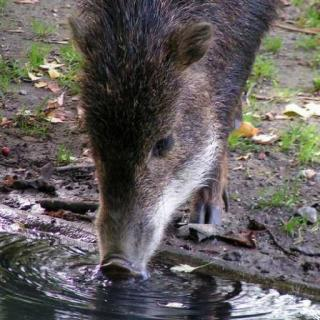Pig: (47, 0, 273, 288)
